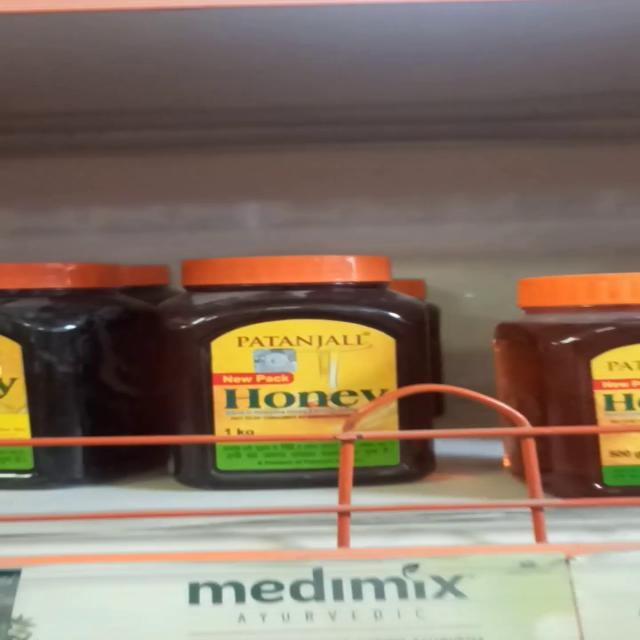Patanjali Honey: (168, 248, 436, 484)
